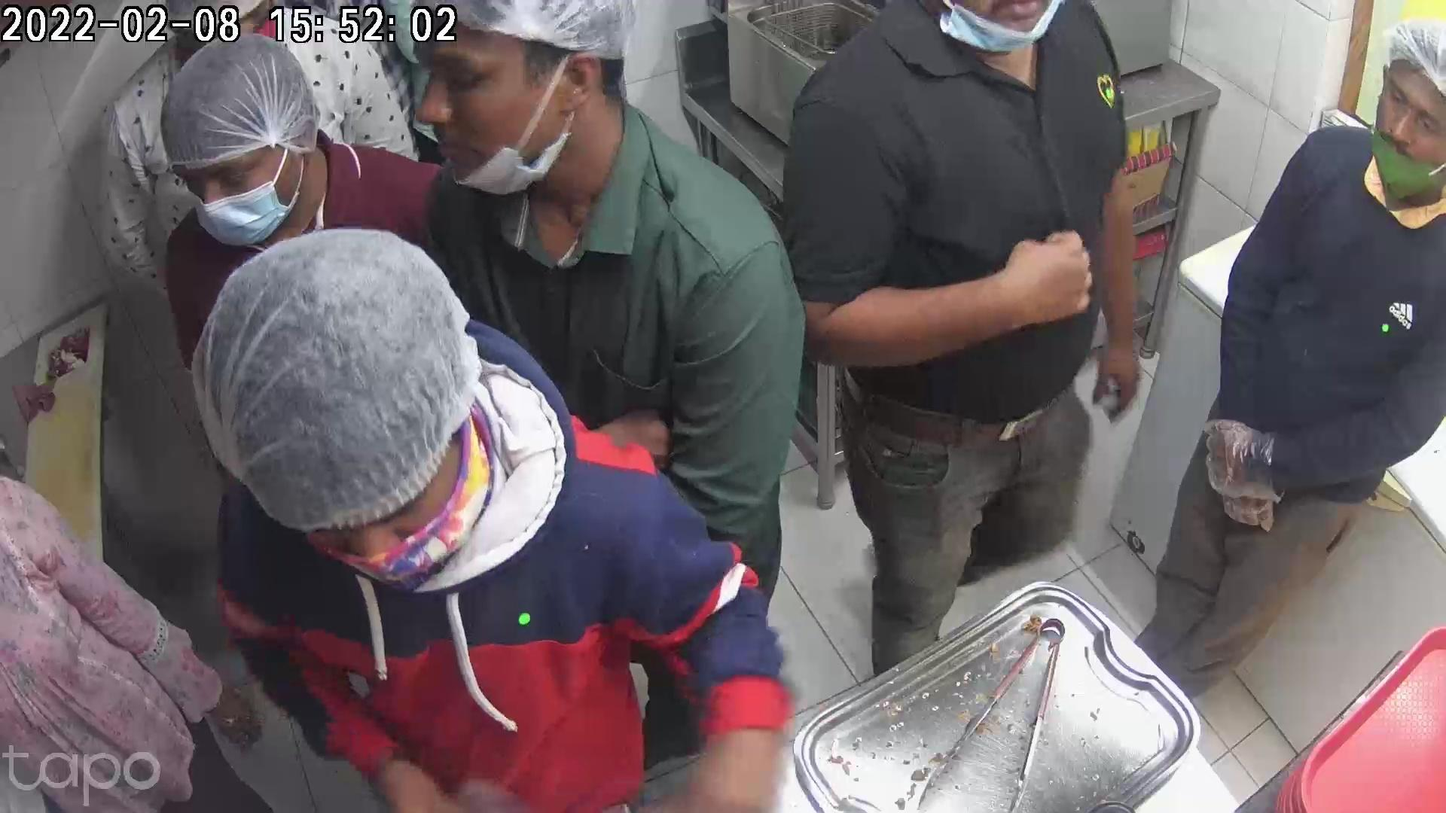no_gloves: (978, 235, 1095, 332)
